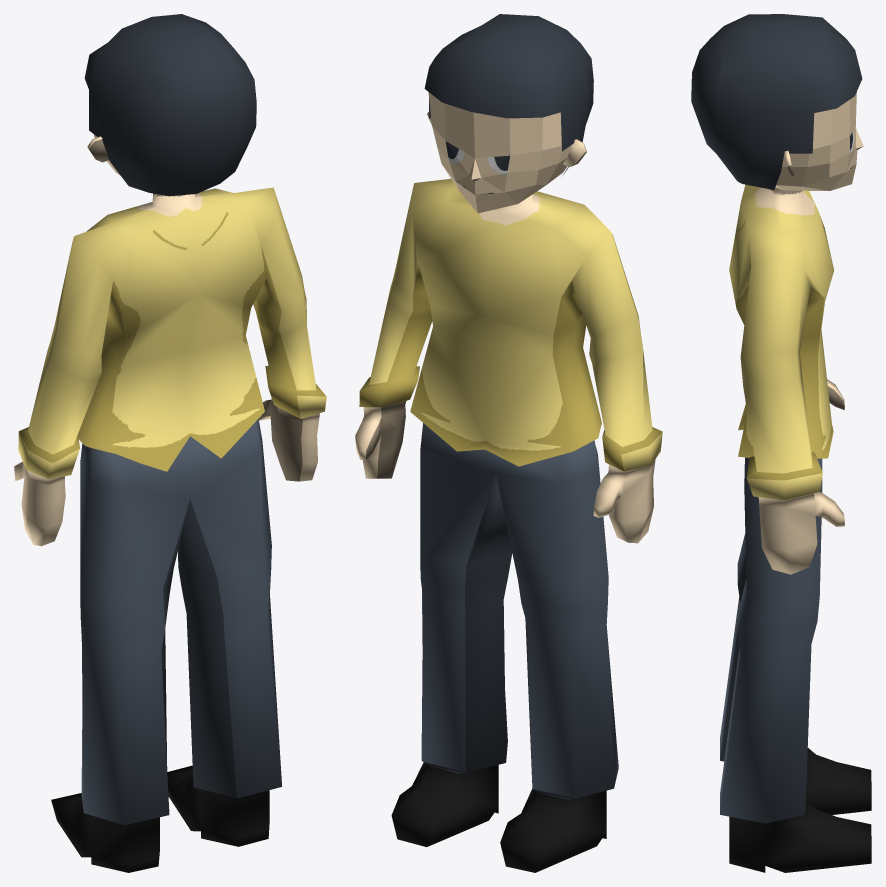
3 views of the same model, side by side, from view 1: azimuth 30°, elevation 25°; view 2: azimuth 150°, elevation 25°; view 3: azimuth 270°, elevation 25° (orthographic).
Parts seen in each view (by area): view 1: MEN OFFICE, MAN BASE; view 2: MEN OFFICE, MAN BASE, MAN HEAD; view 3: MEN OFFICE, MAN BASE, MAN HEAD.
Part boxes in pixels (bbox=[...]): MEN OFFICE: bbox=[14, 187, 326, 872]; MAN BASE: bbox=[84, 14, 256, 196]; MEN OFFICE: bbox=[355, 178, 662, 872]; MAN BASE: bbox=[424, 14, 593, 174]; MAN HEAD: bbox=[428, 92, 571, 213]; MEN OFFICE: bbox=[720, 184, 871, 872]; MAN BASE: bbox=[691, 14, 862, 189]; MAN HEAD: bbox=[775, 92, 863, 190].
Bounding box in the file's own units: 3.32 × 8.89 × 1.8.
Materials: 4 (4 with a texture image).
